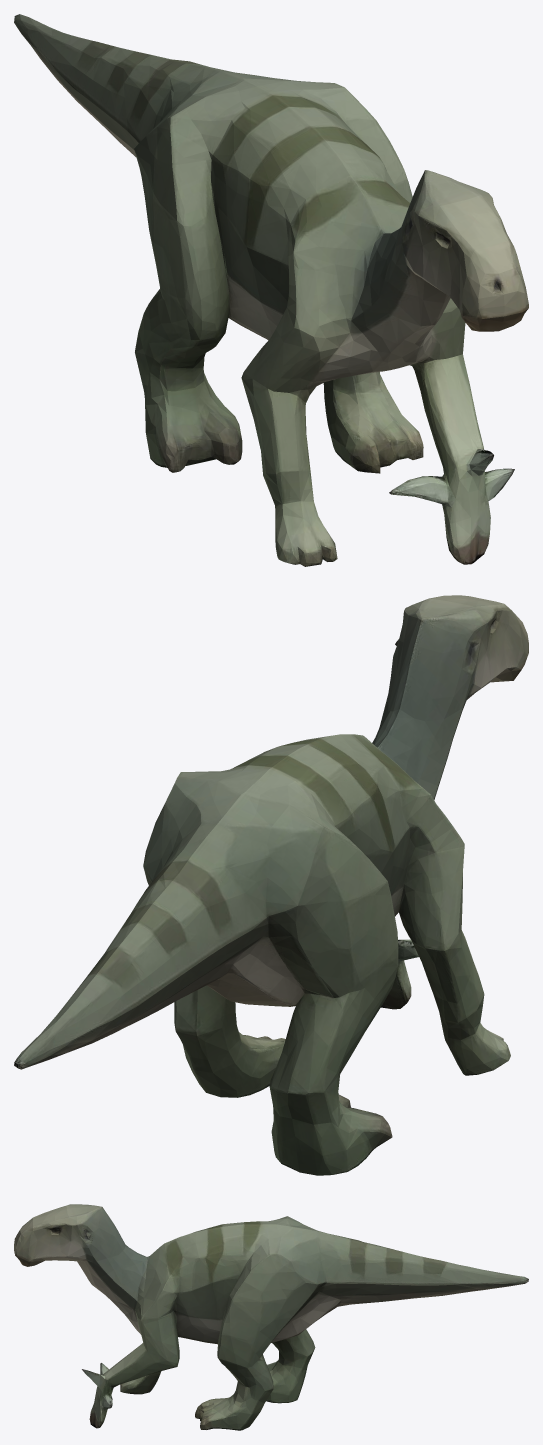
Rendered from iguanodon.glb.
3 renders of one model, top to bottom at view 1: azimuth 30°, elevation 25°; view 2: azimuth 150°, elevation 25°; view 3: azimuth 270°, elevation 25°, orthographic. The views are drawn at different scales.
Visible parts, largest first — view 1: geometry_0; view 2: geometry_0; view 3: geometry_0.
Boxes of the visible parts, left/top/right/bottom form: geometry_0: left=14, top=14, right=528, bottom=566; geometry_0: left=14, top=595, right=528, bottom=1175; geometry_0: left=14, top=1204, right=528, bottom=1430.
Size of the model in its own units: 0.2664 by 0.4491 by 1.
1 material, 1 textured.
